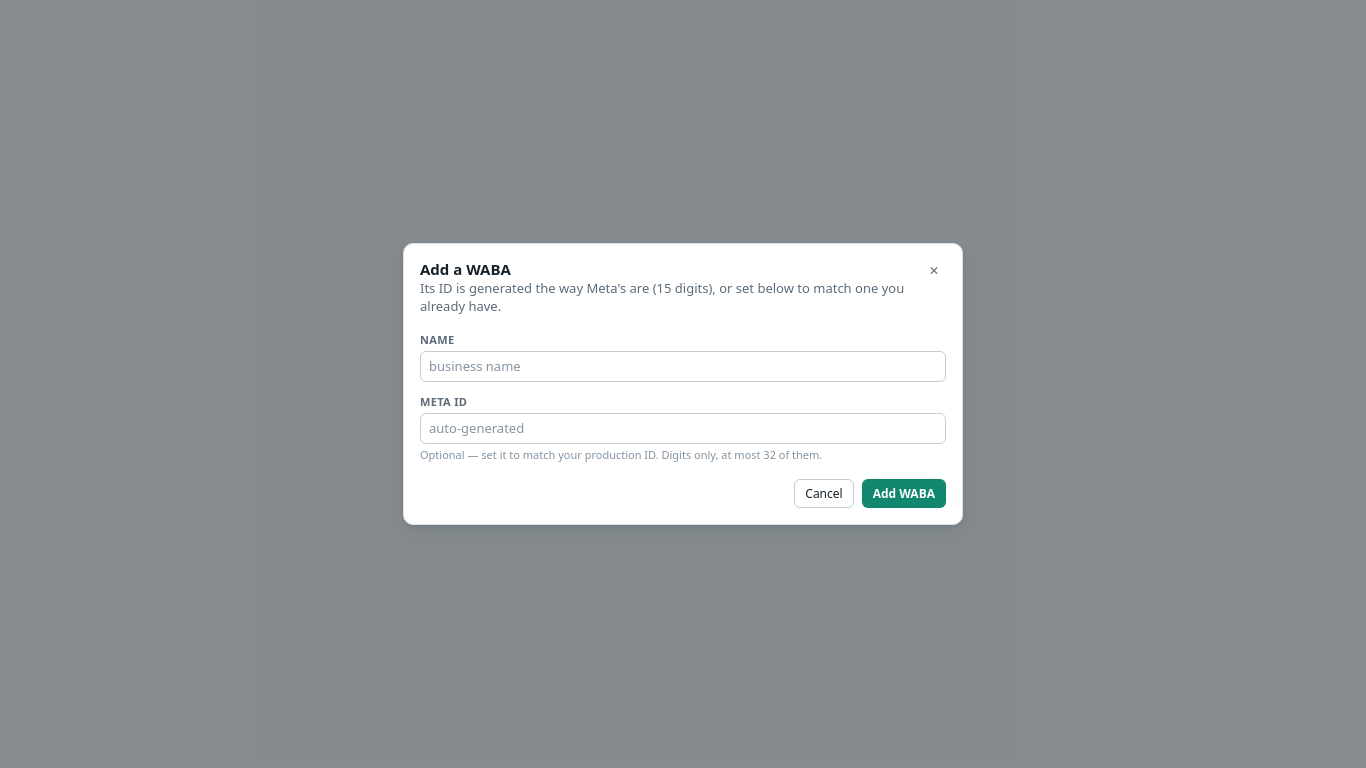
Test: CreateWabaDialog › names the nameless account in the dialog rather than in a toast
Click the button "Add WABA": (904, 494) [862,479,946,508]
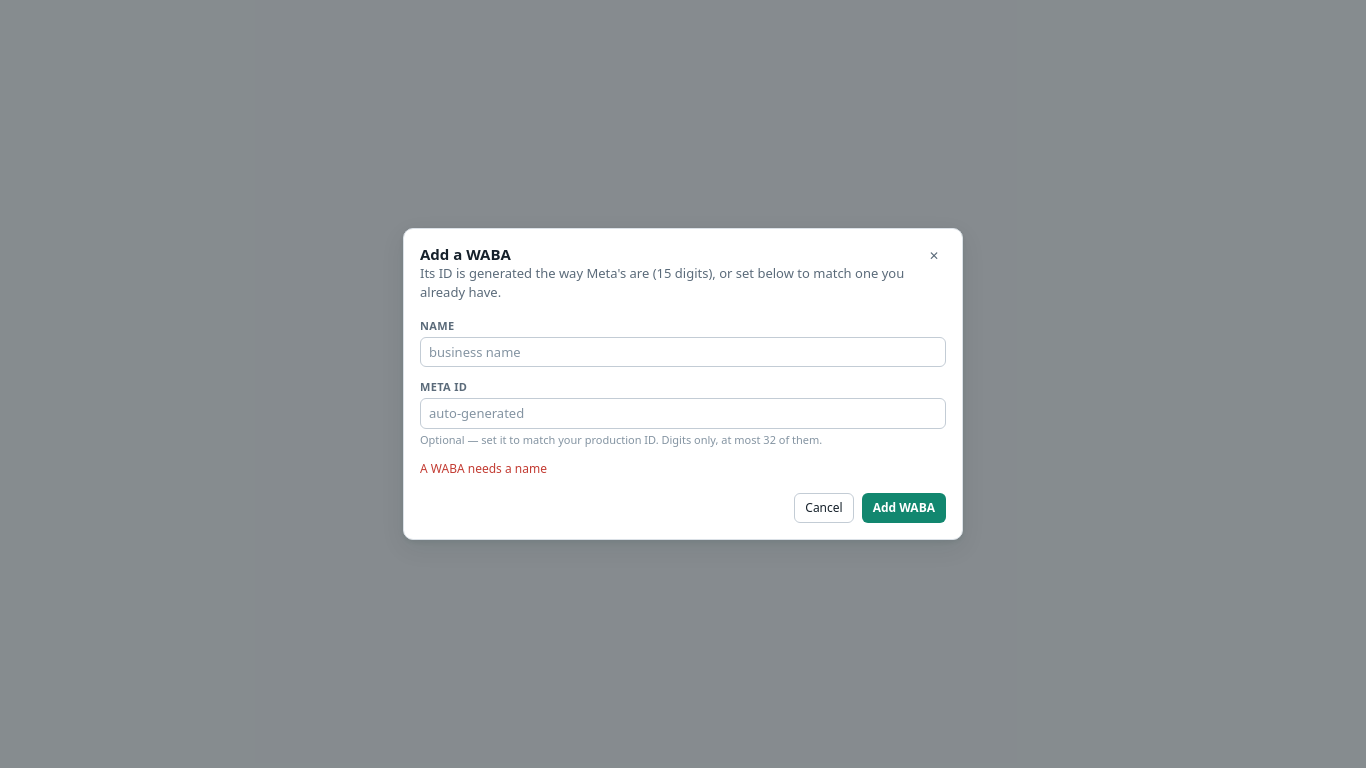
Result: the message reads "A WABA needs a name" at [420,460,547,477]
